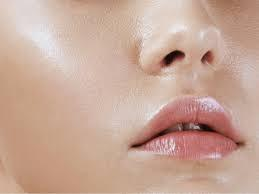Oily-Skin: (24, 27, 59, 58), (180, 18, 223, 43), (178, 68, 219, 93)
